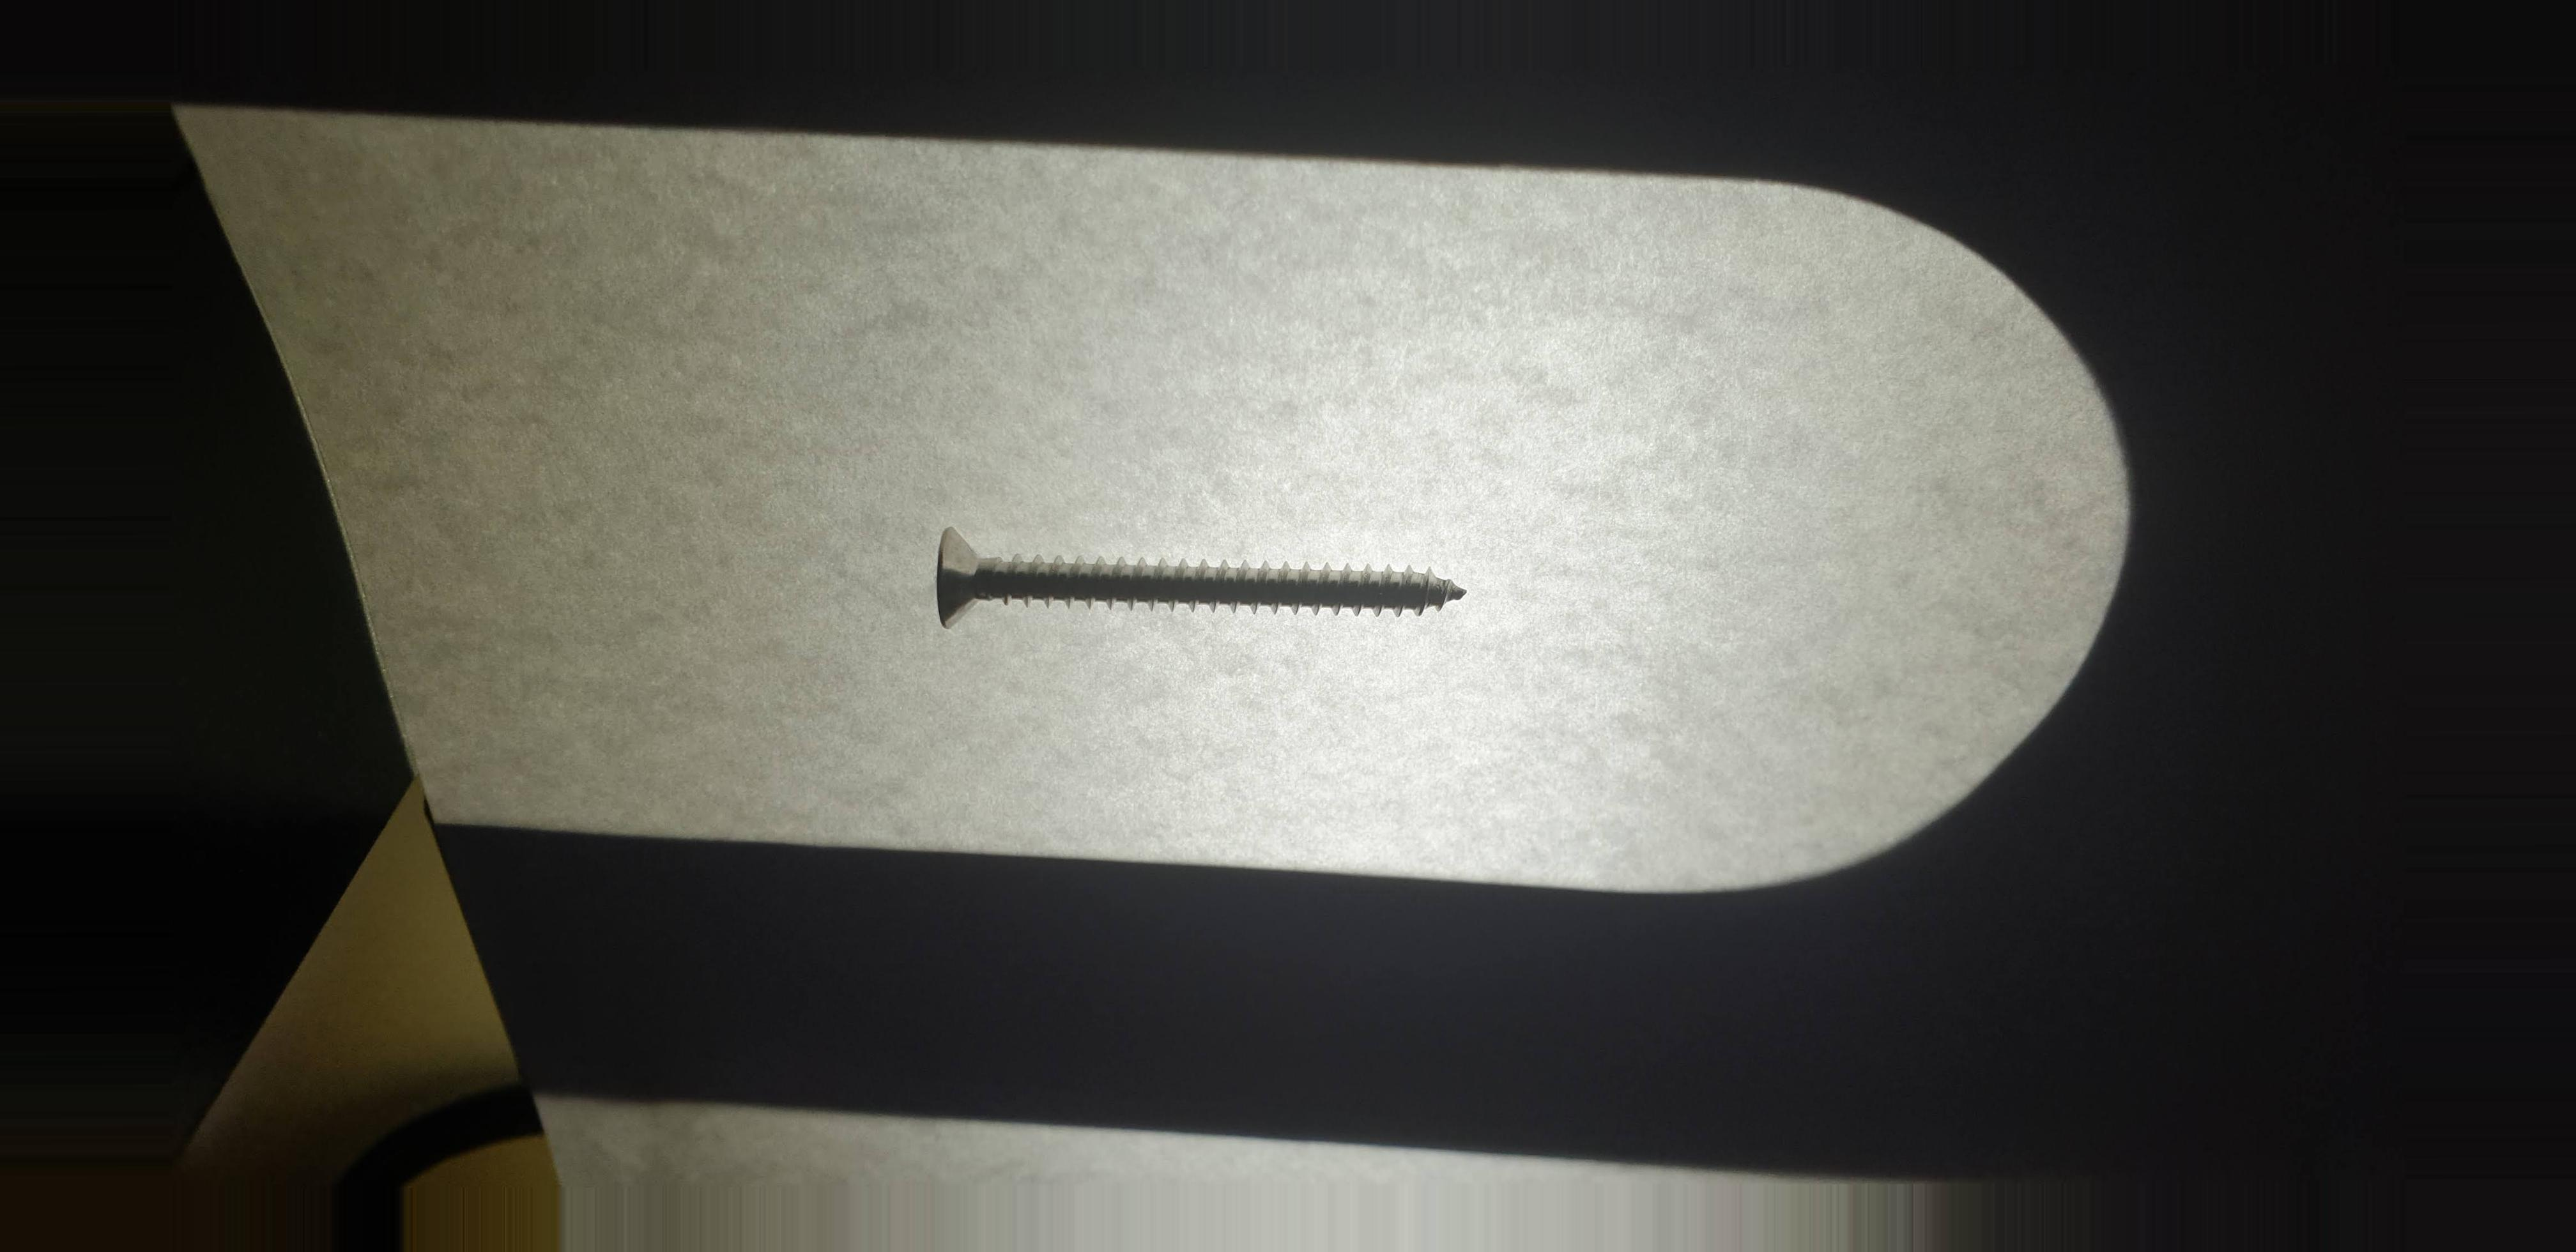S001: (899, 506, 1500, 664)
